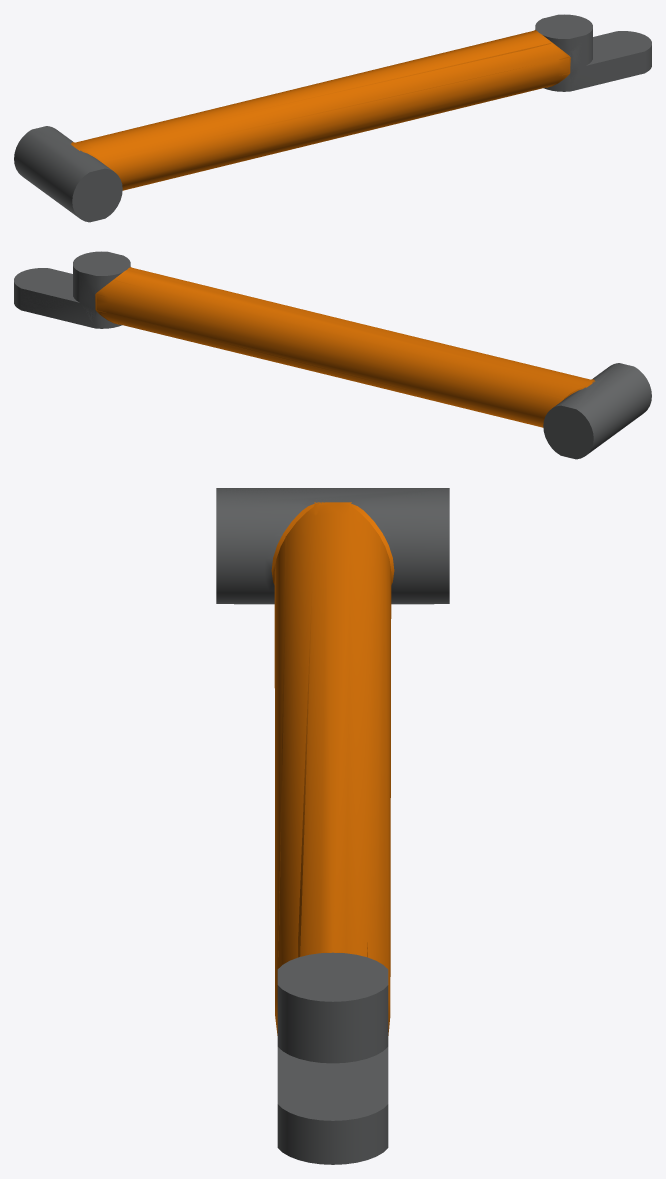
The picture shows the model from 3 angles, top to bottom: view 1: azimuth 30°, elevation 25°; view 2: azimuth 150°, elevation 25°; view 3: azimuth 270°, elevation 25°; orthographic projection. The views are drawn at different scales.
Visible parts, largest first — view 1: j3_LOD0, j3_col; view 2: j3_LOD0, j3_col; view 3: j3_LOD0, j3_col.
Boxes of the visible parts, x1,y1,x2,y2 form: j3_LOD0: [14, 14, 651, 222]; j3_col: [32, 14, 649, 221]; j3_LOD0: [14, 251, 651, 459]; j3_col: [14, 251, 633, 459]; j3_LOD0: [216, 488, 449, 1164]; j3_col: [216, 488, 447, 1120].
Size of what is drawn, in the model's own units: 144 by 12 by 24.
